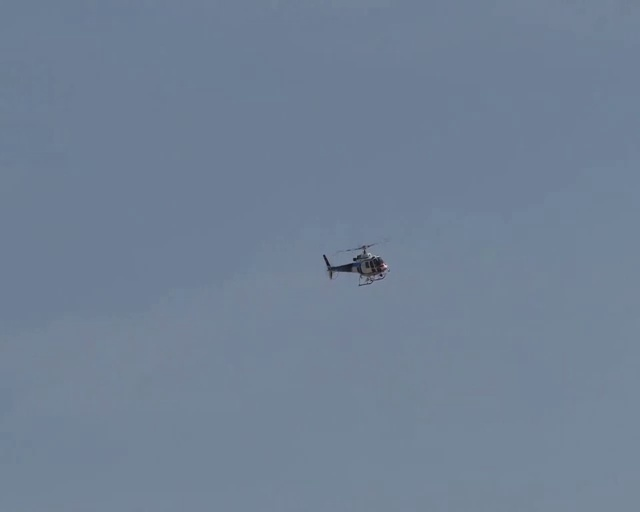HELICOPTER: (322, 241, 392, 287)
